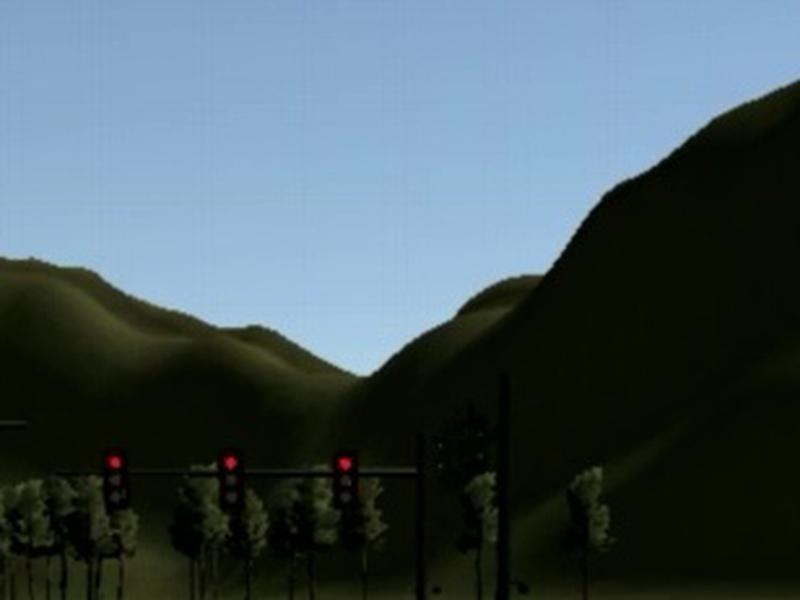Red: (219, 451, 245, 511), (333, 451, 359, 510), (104, 453, 127, 511)
